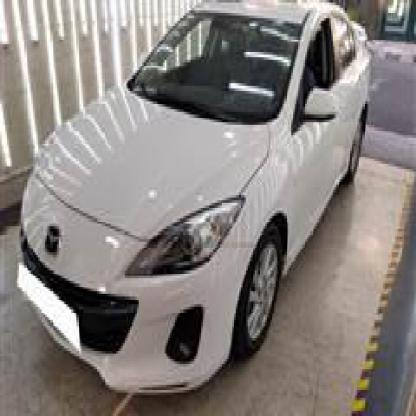car: (7, 0, 373, 406)
